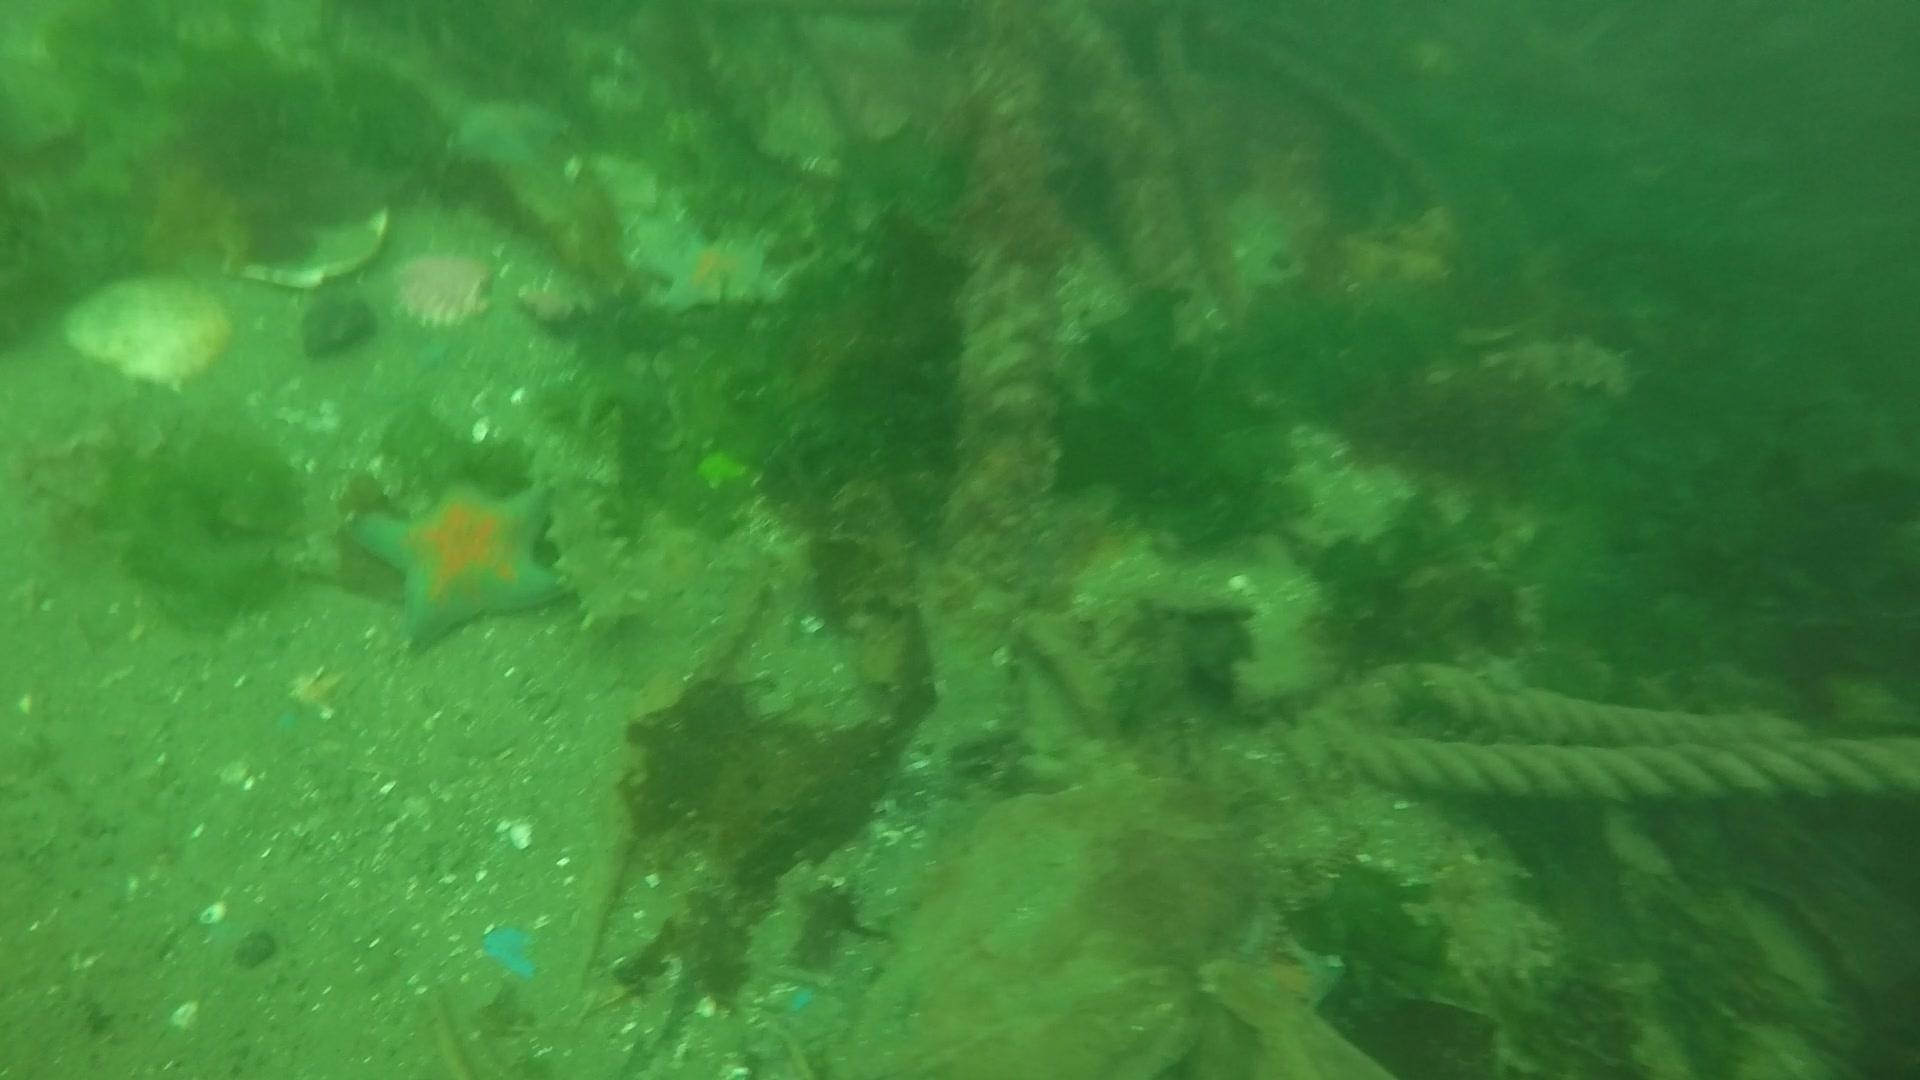holothurian: (535, 464, 654, 638), (1487, 332, 1642, 407)
scallop: (61, 269, 236, 396), (224, 199, 396, 293), (381, 245, 495, 339)
starfish: (347, 473, 568, 651), (644, 220, 779, 320), (440, 88, 574, 181)
